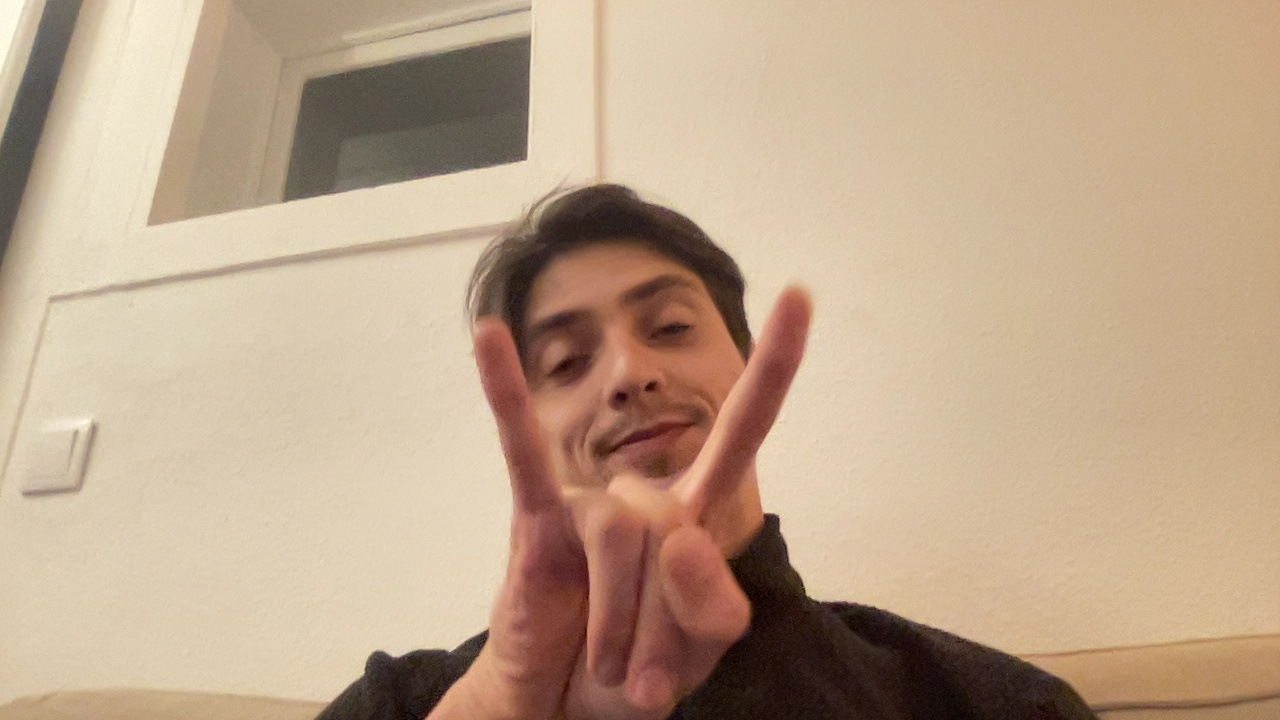I Love You: (358, 214, 870, 720)
